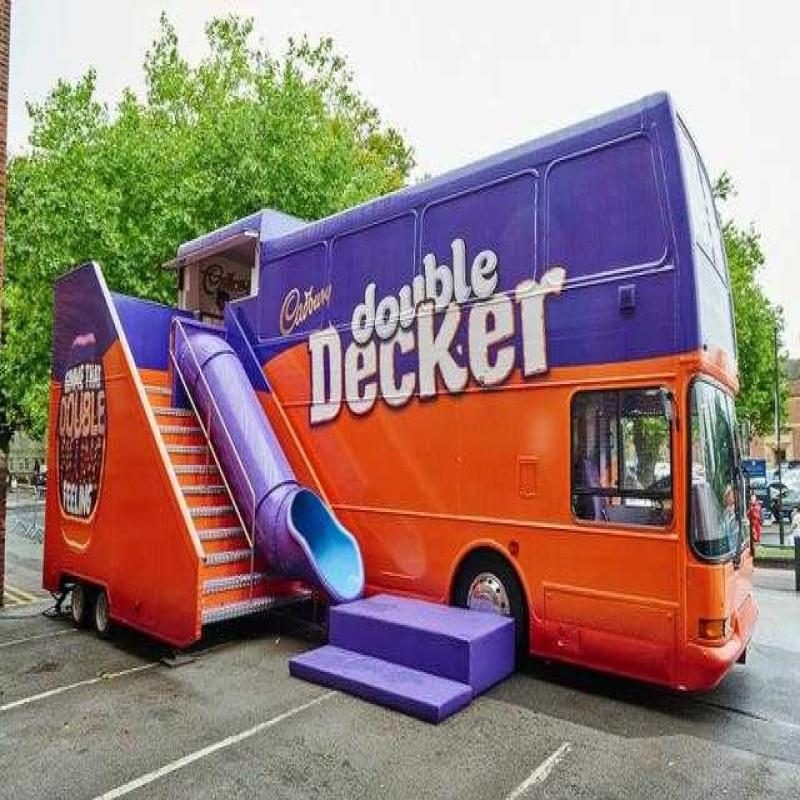bus: (168, 86, 749, 735)
